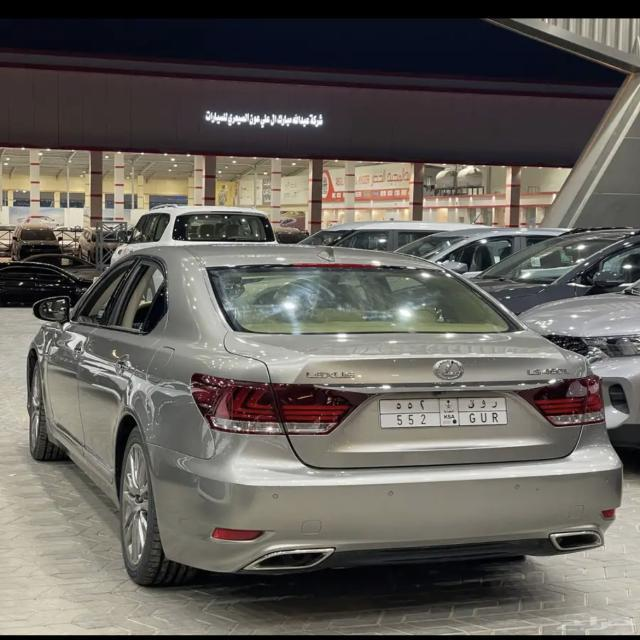license_plate: (378, 398, 512, 426)
